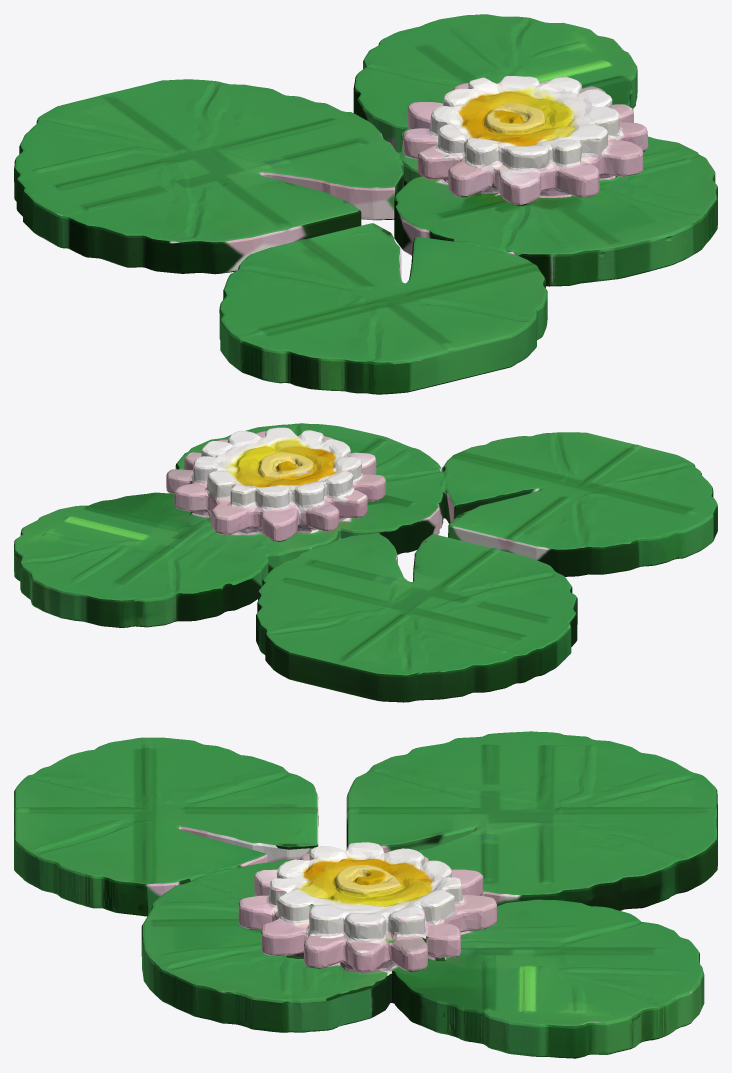
Rendered from traveler_env_coast_bayushi_water_lilies_00001_.glb.
The picture shows the model from 3 angles, top to bottom: view 1: azimuth 30°, elevation 25°; view 2: azimuth 150°, elevation 25°; view 3: azimuth 270°, elevation 25°; orthographic projection. The views are drawn at different scales.
Parts seen in each view (by area): view 1: temp_mesh.ply; view 2: temp_mesh.ply; view 3: temp_mesh.ply.
Part boxes in pixels (left/top/right/bottom): temp_mesh.ply: left=14, top=14, right=717, bottom=394; temp_mesh.ply: left=14, top=423, right=717, bottom=702; temp_mesh.ply: left=14, top=731, right=717, bottom=1058.
Bounding box in the file's own units: 1.96 × 0.257 × 1.97.
1 material, 1 textured.
